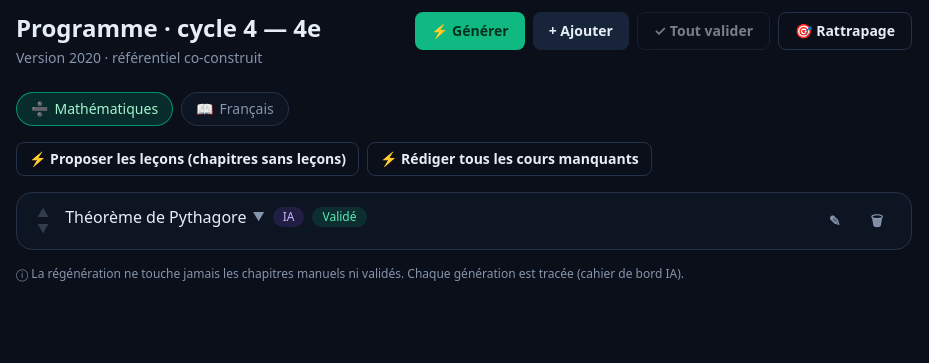
ProgrammePage › lot matière en cours : progression réelle, annulation, boutons verrouillés
Expected: the text "Théorème de Pythagore" is shown, [65, 205, 246, 229]
Click the button "⚡ Rédiger tous les cours manquants": coordinates (509, 159) [367, 142, 652, 176]
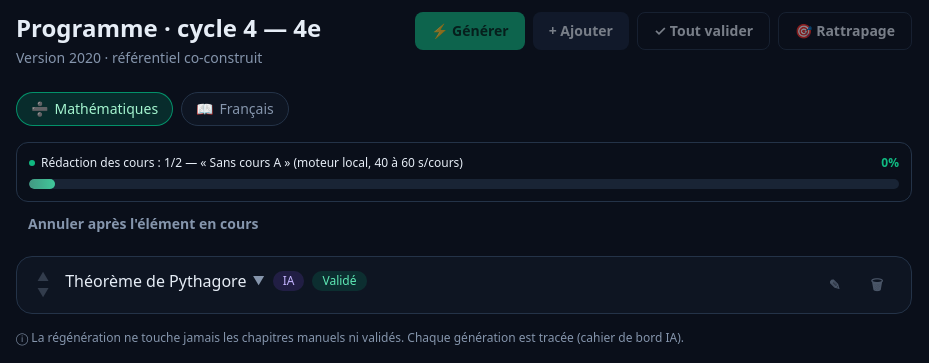
Expected: the button "✓ Tout valider" is disabled, [637, 12, 770, 50]
Expected: the text "Rédaction des cours : 1/2 — « Sans cours A »" is shown, [41, 154, 463, 171]
Expected: the button "⚡ Générer" is disabled, [415, 12, 525, 50]
# Annulation : l'élément en cours se termine, la suite non.
Click the button "Annuler après l'élément en cours": coordinates (143, 224) [16, 208, 270, 240]
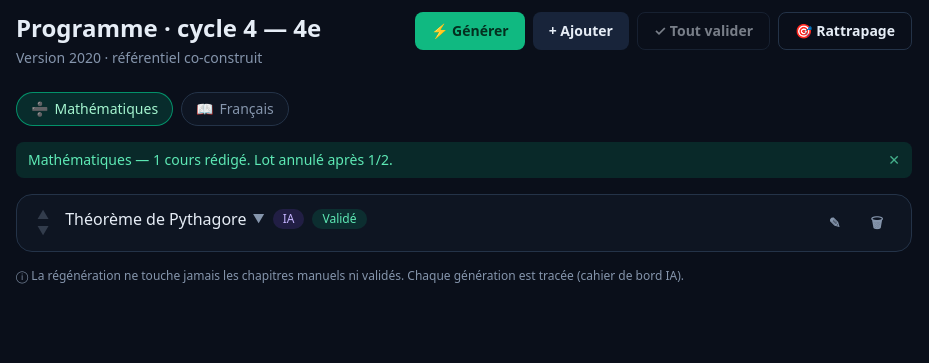
Expected: the text "Mathématiques — 1 cours rédigé. Lot annulé après 1/2." is shown, [28, 150, 393, 170]
# Fermeture du rapport → les boutons de lot réapparaissent.
Click the button named "Fermer le rapport": coordinates (894, 160) [888, 150, 900, 170]
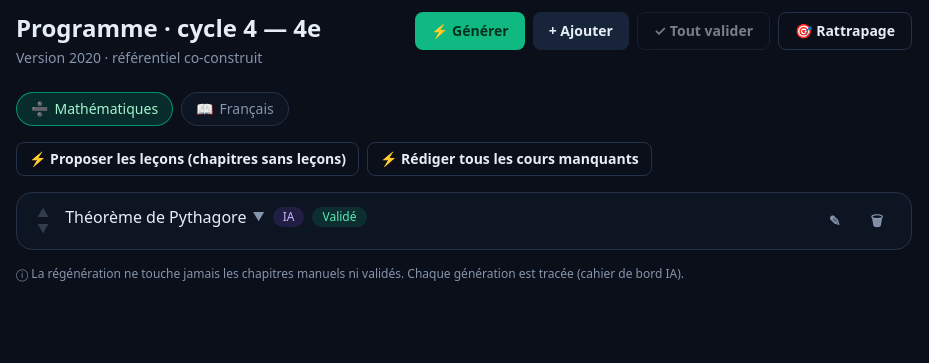
Expected: the button "⚡ Rédiger tous les cours manquants" is enabled, [367, 142, 652, 176]
